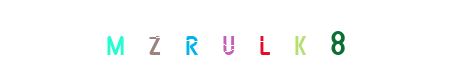8: (298, 0, 378, 80)
K: (223, 0, 303, 80)
L: (208, 0, 288, 80)
M: (106, 0, 186, 80)
R: (188, 0, 268, 80)
U: (197, 0, 277, 80)
Z: (115, 0, 195, 80)
